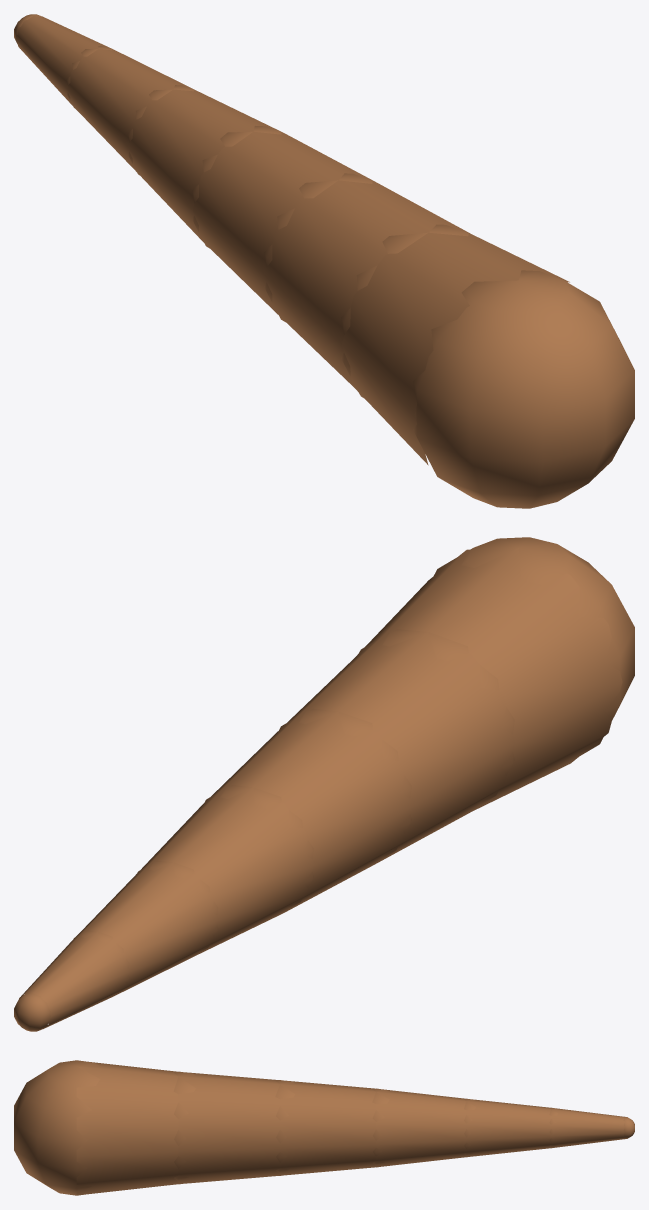
Rendered from kangaroo_tail.glb.
3 views of the same model, one above another, from view 1: azimuth 30°, elevation 25°; view 2: azimuth 150°, elevation 25°; view 3: azimuth 270°, elevation 25° (orthographic). The views are drawn at different scales.
Visible parts, largest first — view 1: kangaroo_tail, kangaroo_tail_seg_02, kangaroo_tail_seg_03, kangaroo_tail_seg_04, kangaroo_tail_seg_05, kangaroo_tail_seg_06; view 2: kangaroo_tail, kangaroo_tail_seg_02, kangaroo_tail_seg_03, kangaroo_tail_seg_04, kangaroo_tail_seg_05, kangaroo_tail_seg_06; view 3: kangaroo_tail, kangaroo_tail_seg_02, kangaroo_tail_seg_03, kangaroo_tail_seg_04, kangaroo_tail_seg_05, kangaroo_tail_seg_06.
Boxes of the visible parts, bbox=[...] form: kangaroo_tail: bbox=[341, 224, 634, 508]; kangaroo_tail_seg_02: bbox=[264, 173, 471, 398]; kangaroo_tail_seg_03: bbox=[192, 126, 374, 321]; kangaroo_tail_seg_04: bbox=[128, 85, 282, 239]; kangaroo_tail_seg_05: bbox=[66, 46, 195, 174]; kangaroo_tail_seg_06: bbox=[14, 14, 113, 103]; kangaroo_tail: bbox=[355, 537, 634, 810]; kangaroo_tail_seg_02: bbox=[275, 632, 514, 863]; kangaroo_tail_seg_03: bbox=[202, 711, 411, 912]; kangaroo_tail_seg_04: bbox=[136, 787, 313, 954]; kangaroo_tail_seg_05: bbox=[72, 861, 218, 995]; kangaroo_tail_seg_06: bbox=[14, 931, 129, 1031]; kangaroo_tail: bbox=[14, 1060, 195, 1195]; kangaroo_tail_seg_02: bbox=[178, 1072, 294, 1184]; kangaroo_tail_seg_03: bbox=[275, 1080, 387, 1175]; kangaroo_tail_seg_04: bbox=[374, 1089, 475, 1167]; kangaroo_tail_seg_05: bbox=[466, 1098, 558, 1157]; kangaroo_tail_seg_06: bbox=[551, 1108, 634, 1148].
Size of the model in its own units: 0.24 by 0.24 by 1.1.
